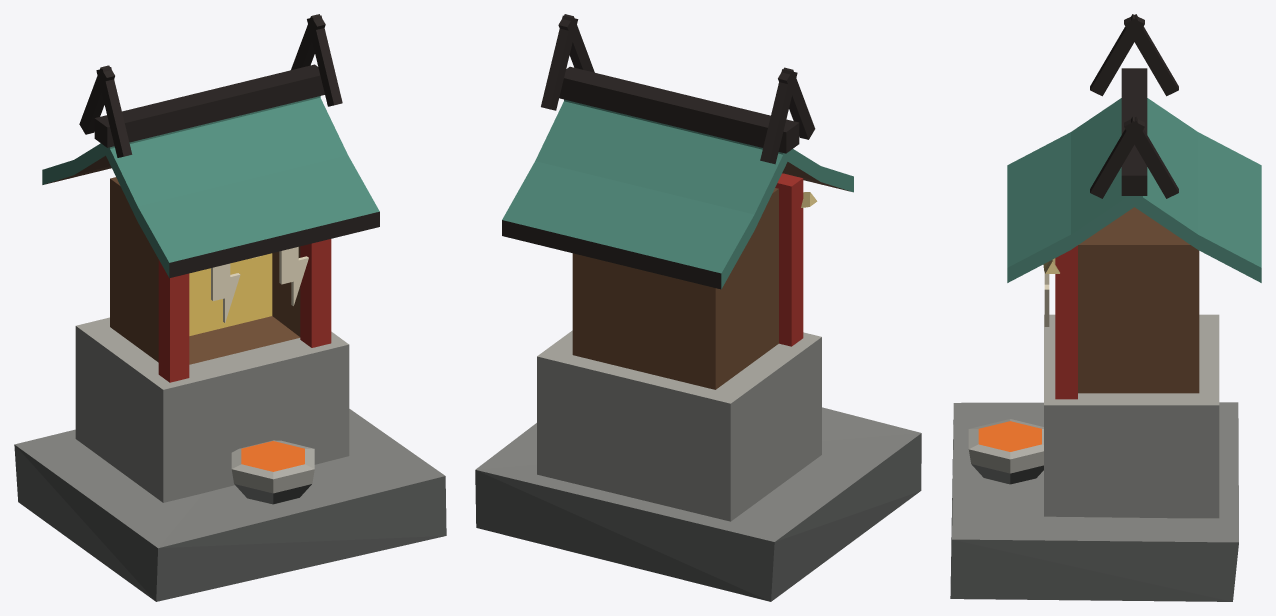
Rendered from shrine_checkpoint.fbx.
3 renders of one model, left to right at view 1: azimuth 30°, elevation 25°; view 2: azimuth 150°, elevation 25°; view 3: azimuth 270°, elevation 25°, orthographic. The views are drawn at different scales.
Parts seen in each view (by area): view 1: shrine_checkpoint; view 2: shrine_checkpoint; view 3: shrine_checkpoint.
Part boxes in pixels (x1,y1,x2,y2): shrine_checkpoint: [14, 14, 446, 601]; shrine_checkpoint: [475, 14, 921, 601]; shrine_checkpoint: [950, 14, 1261, 601].
Bounding box in the file's own units: 1.18 × 1.81 × 1.1.
